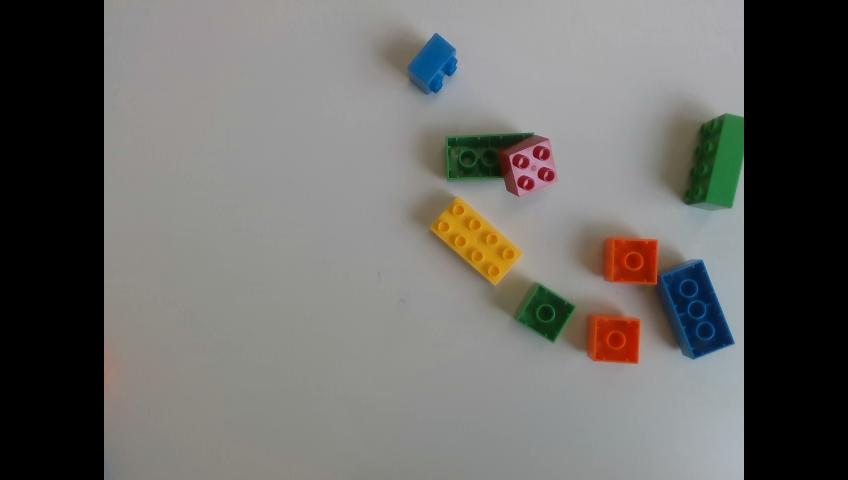2x2_blue: (409, 35, 459, 97)
2x2_green: (515, 282, 576, 345)
2x2_orange: (587, 315, 641, 364), (602, 239, 657, 286)
2x2_red: (497, 134, 559, 199)
4x2_blue: (656, 258, 736, 359)
4x2_green: (683, 112, 744, 213), (447, 135, 534, 181)
4x2_yellow: (430, 195, 526, 289)
